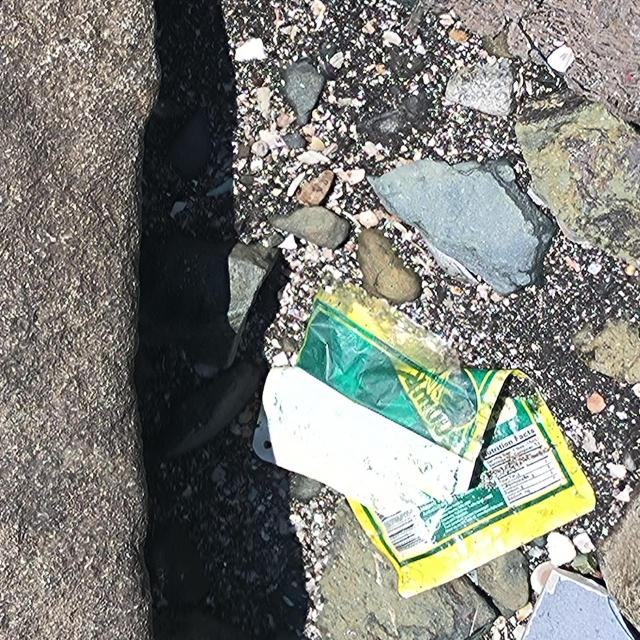plastic_waste: (251, 281, 599, 602)
